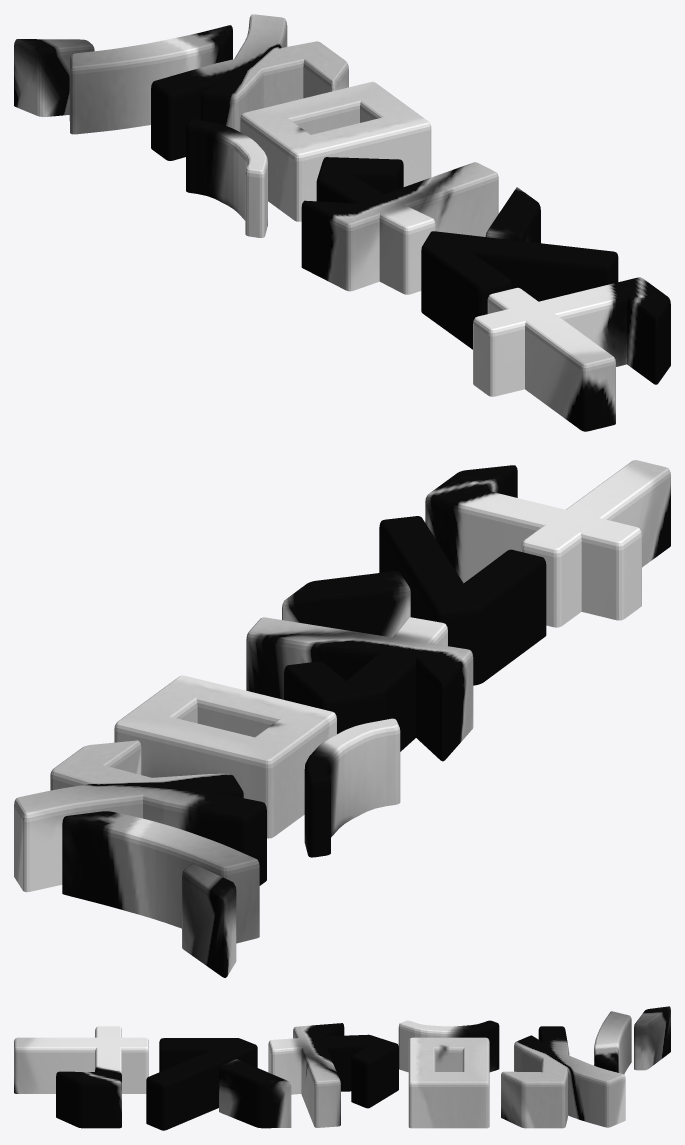
File: japon.gltf
3 views of the same model, one above another, from view 1: azimuth 30°, elevation 25°; view 2: azimuth 150°, elevation 25°; view 3: azimuth 270°, elevation 25° (orthographic). The views are drawn at different scales.
Visible parts, largest first — view 1: Japon; view 2: Japon; view 3: Japon.
Part boxes in pixels (box(x1,y1,x2,y2)): Japon: box(14, 14, 670, 431); Japon: box(14, 460, 670, 977); Japon: box(14, 1006, 670, 1130).
Bounding box in the file's own units: 4.42 × 1.19 × 15.5.
Materials: 1 (1 with a texture image).
